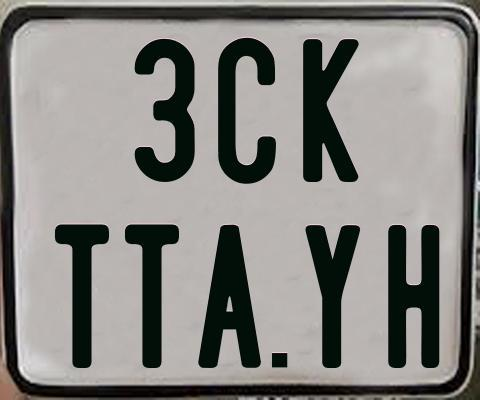3: (132, 36, 192, 182)
A: (197, 222, 263, 367)
C: (218, 38, 282, 189)
H: (388, 223, 445, 366)
K: (303, 38, 363, 186)
T: (124, 221, 183, 371), (55, 224, 112, 370)
Y: (303, 224, 362, 371)
